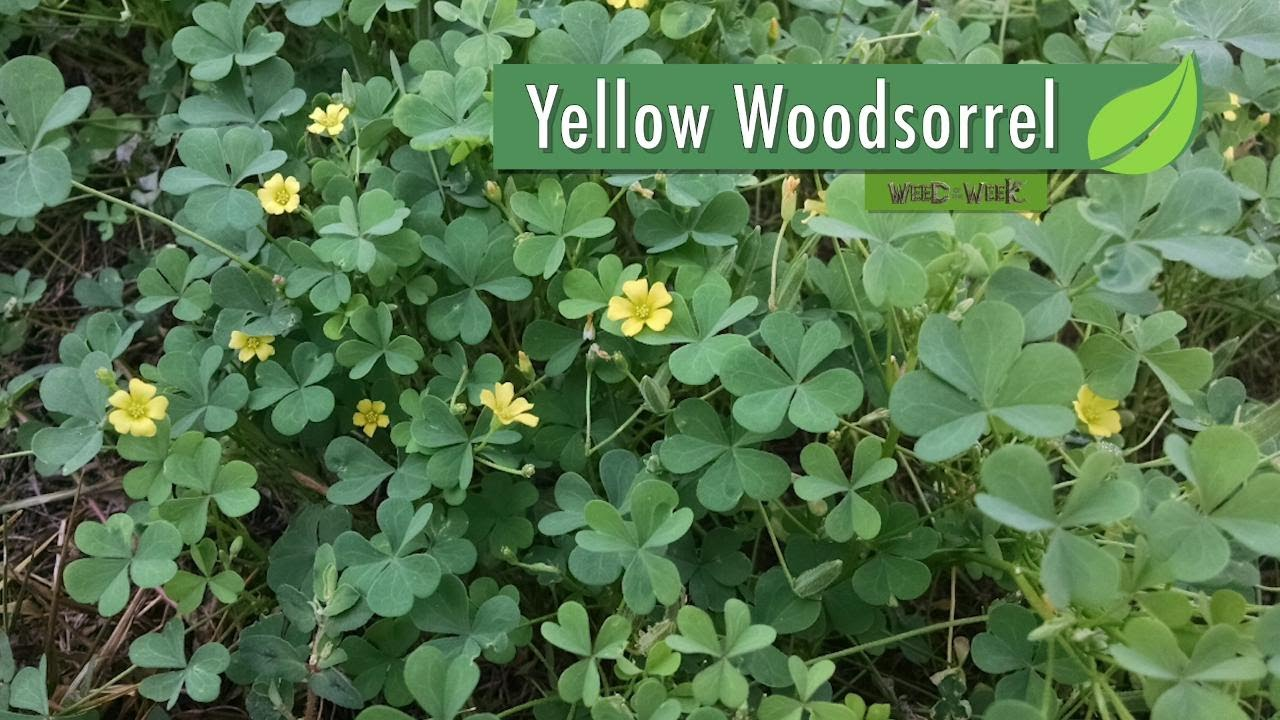clover: (882, 301, 1086, 464), (974, 442, 1144, 614), (1143, 428, 1276, 589), (714, 307, 864, 434), (412, 214, 533, 351), (576, 477, 696, 613), (1112, 613, 1267, 716), (327, 498, 444, 623), (61, 513, 185, 623), (664, 596, 779, 711), (149, 434, 262, 543), (791, 436, 902, 543), (508, 172, 617, 280), (538, 601, 630, 710), (123, 620, 233, 711), (243, 342, 341, 436), (393, 66, 494, 155)
yellow wood sorrel: (605, 277, 674, 342), (106, 373, 168, 442), (1068, 381, 1123, 440), (480, 380, 539, 427), (223, 323, 277, 366), (258, 170, 303, 219), (308, 98, 350, 140), (355, 393, 389, 437)
